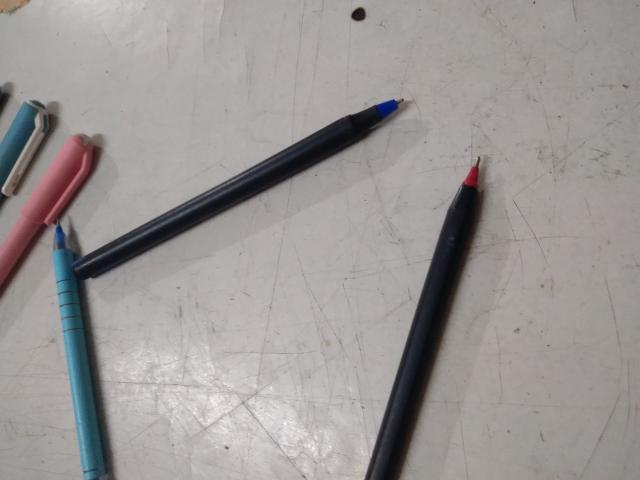PEN: (191, 73, 391, 417), (6, 341, 329, 480), (179, 2, 404, 99), (2, 47, 255, 108)
